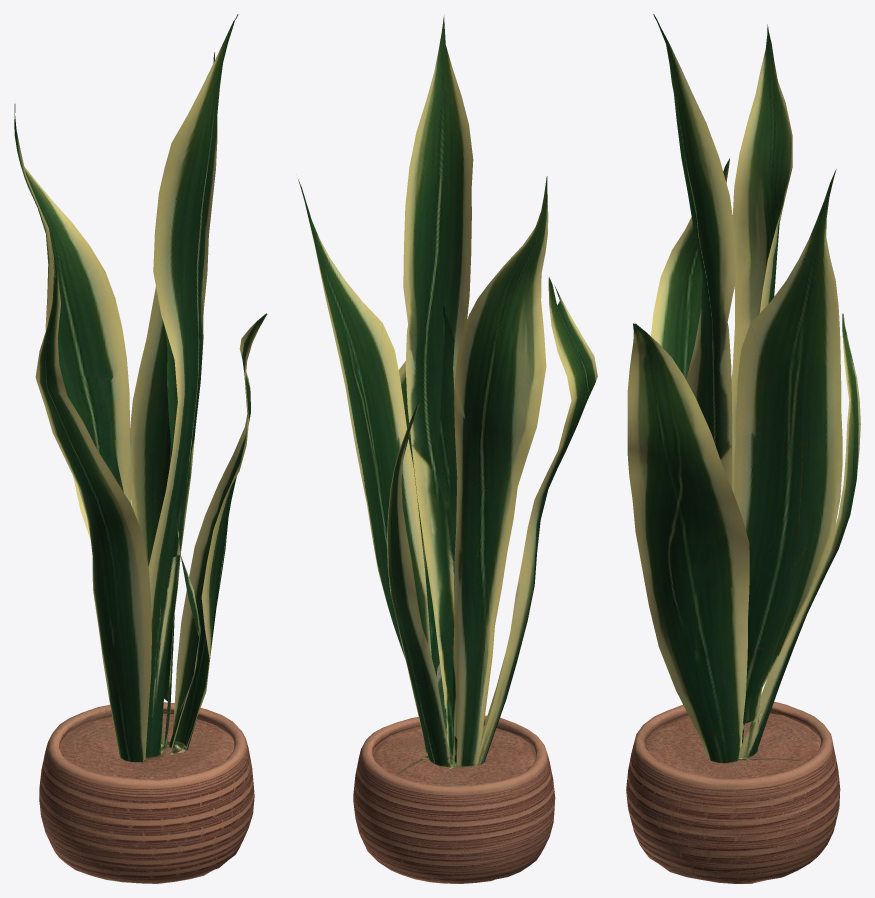
Rendered from plant_snake.glb.
3 views of the same model, side by side, from view 1: azimuth 30°, elevation 25°; view 2: azimuth 150°, elevation 25°; view 3: azimuth 270°, elevation 25° (orthographic). The views are drawn at different scales.
Bounding box in the file's own units: 0.2946 × 1 × 0.2478.
Materials: 1 (1 with a texture image).
